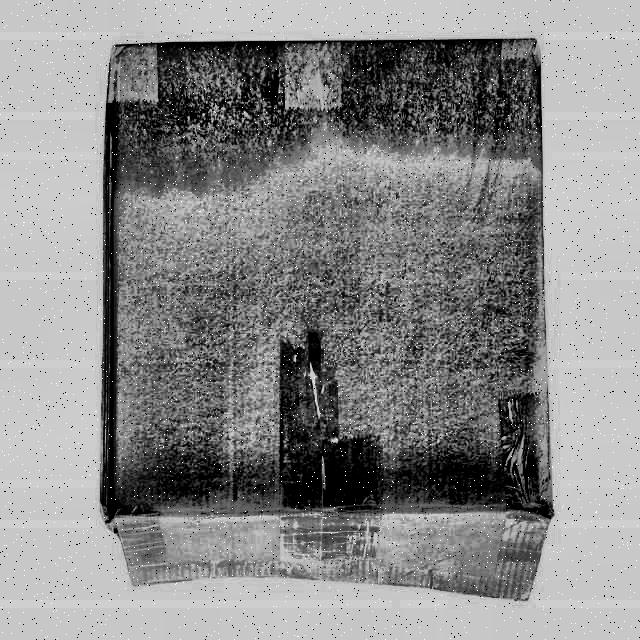box: (91, 35, 562, 613)
wet: (112, 41, 540, 192)
